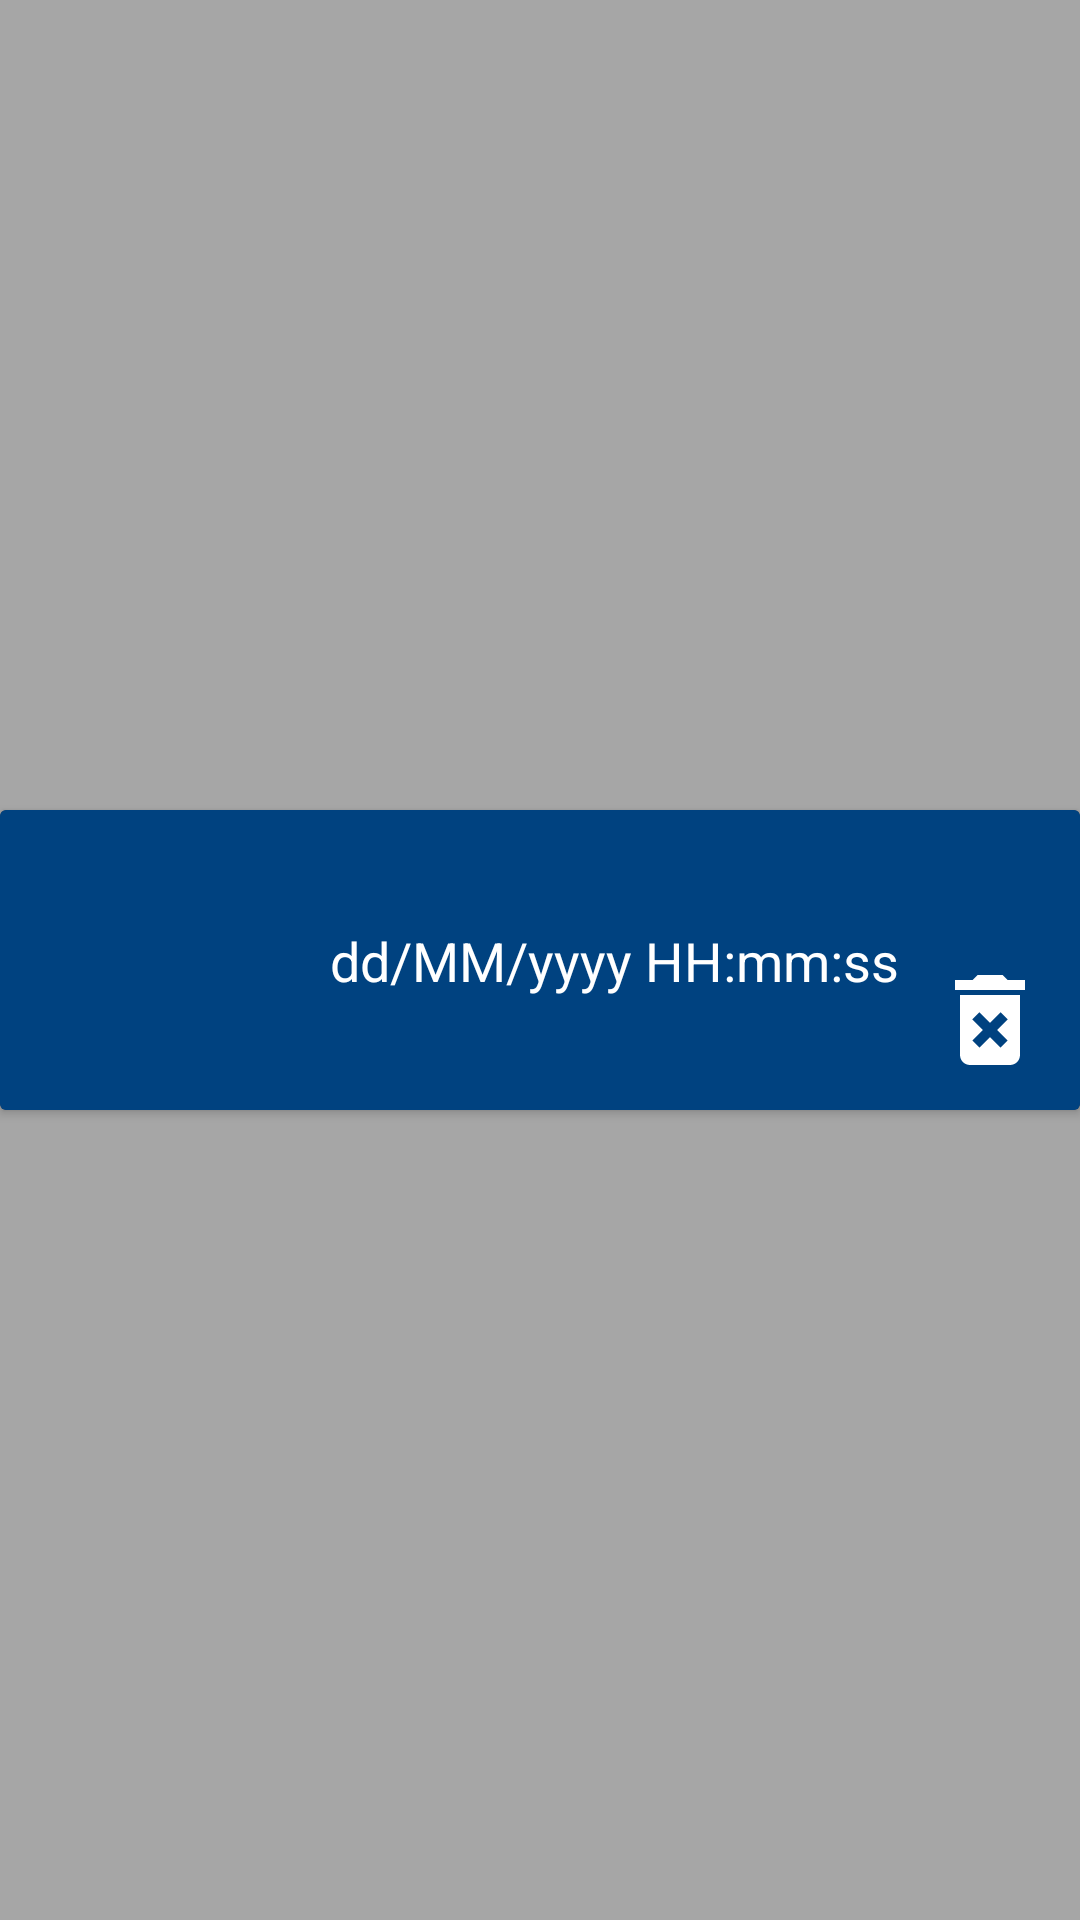

Screen size 1080px x 1920px. Icon name, then its center in pixels as [x,y]:
delete: [990,1020]
